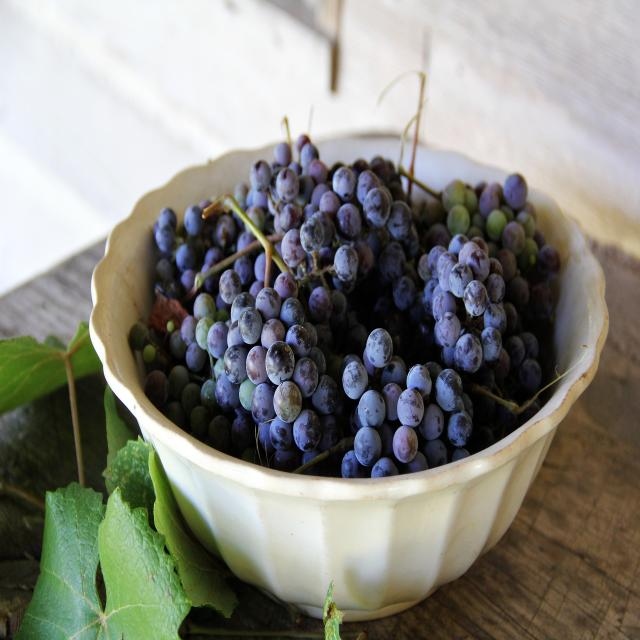Grapes: (253, 122, 416, 324), (325, 322, 475, 493), (210, 248, 328, 459), (421, 226, 527, 405)
